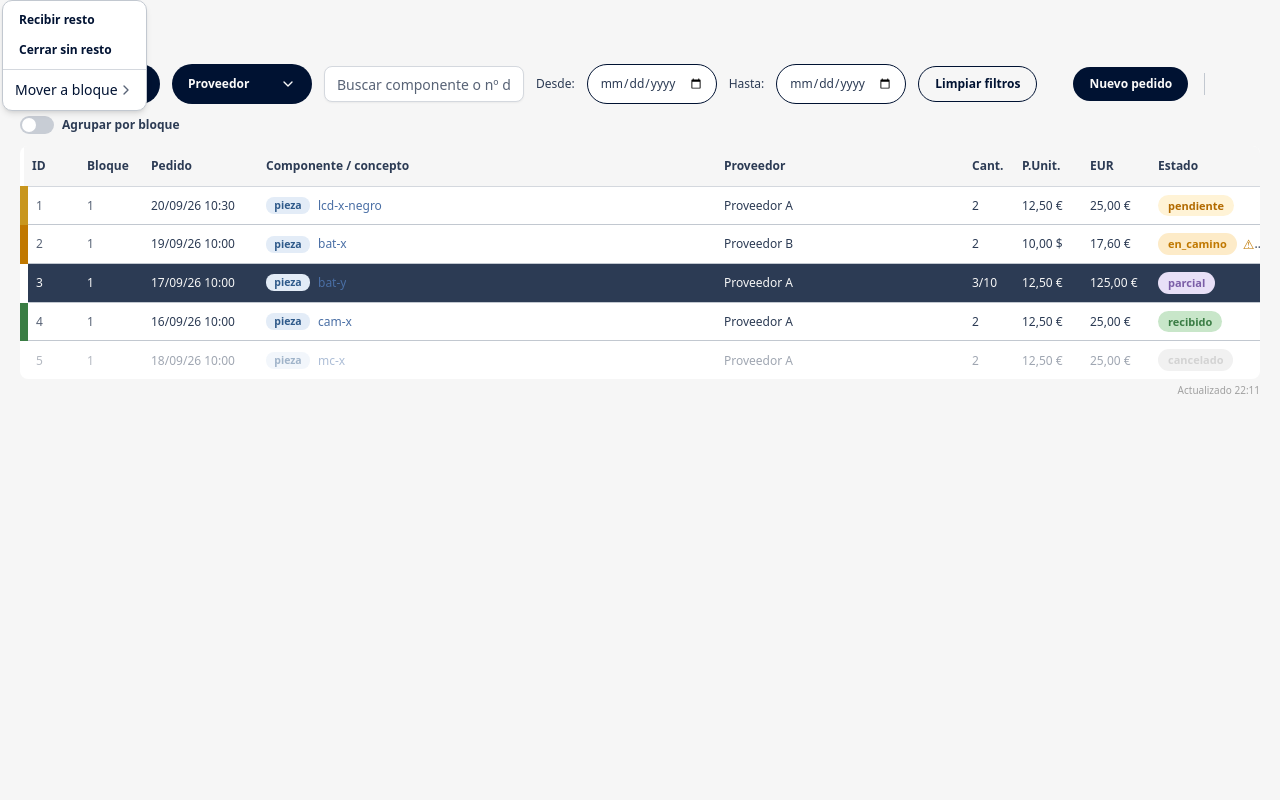
Test: PedidosPage: menú y acciones (SUPERTECNICO) › "Recibir resto": un 422 del servidor se pinta inline y el diálogo sigue abierto, sin aviso global
Expected: the button "bat-y" is shown, [318,274,346,291]
Step 1. Click the menu item "Recibir resto" → point(57, 20), box [19,11,95,28]
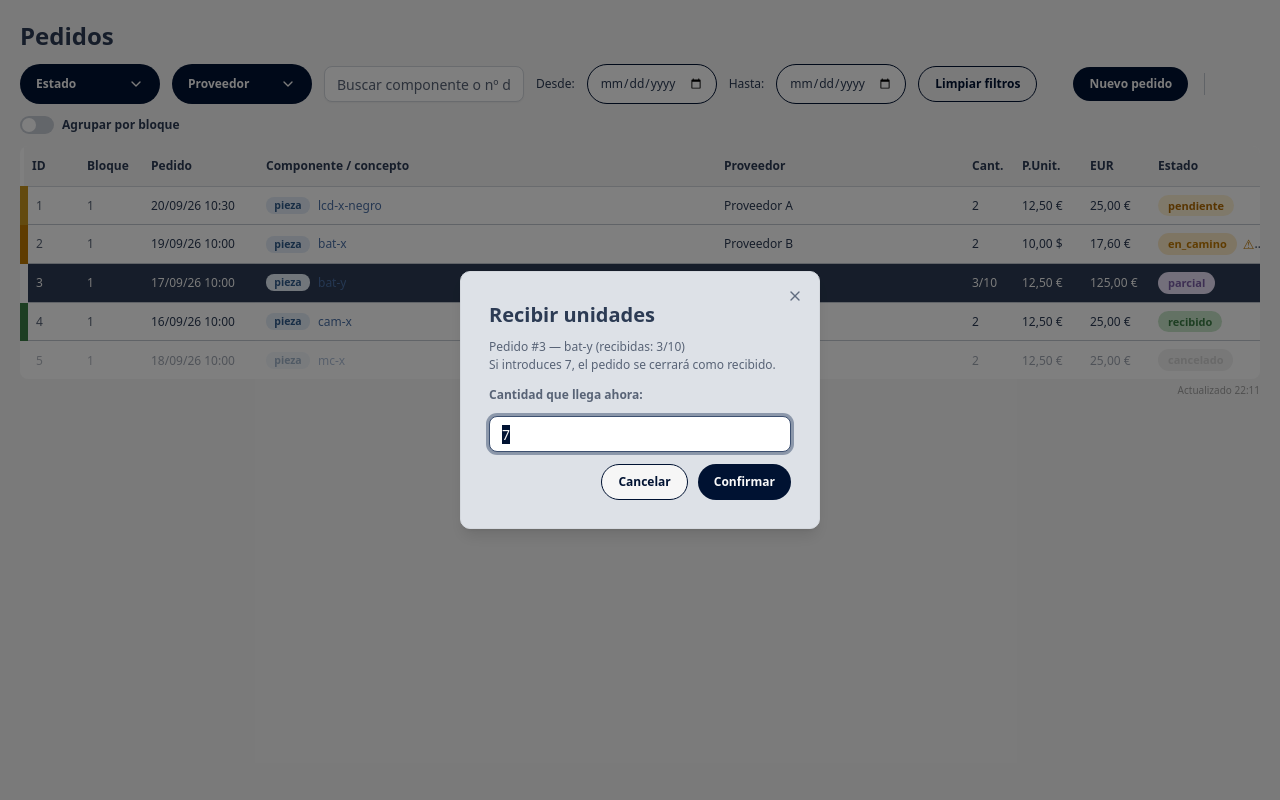
Now the field labelled "Cantidad que llega ahora:" holds "7", box [489,416,791,452]
Step 2. Click the button "Confirmar" → point(744, 482), box [698,464,791,500]
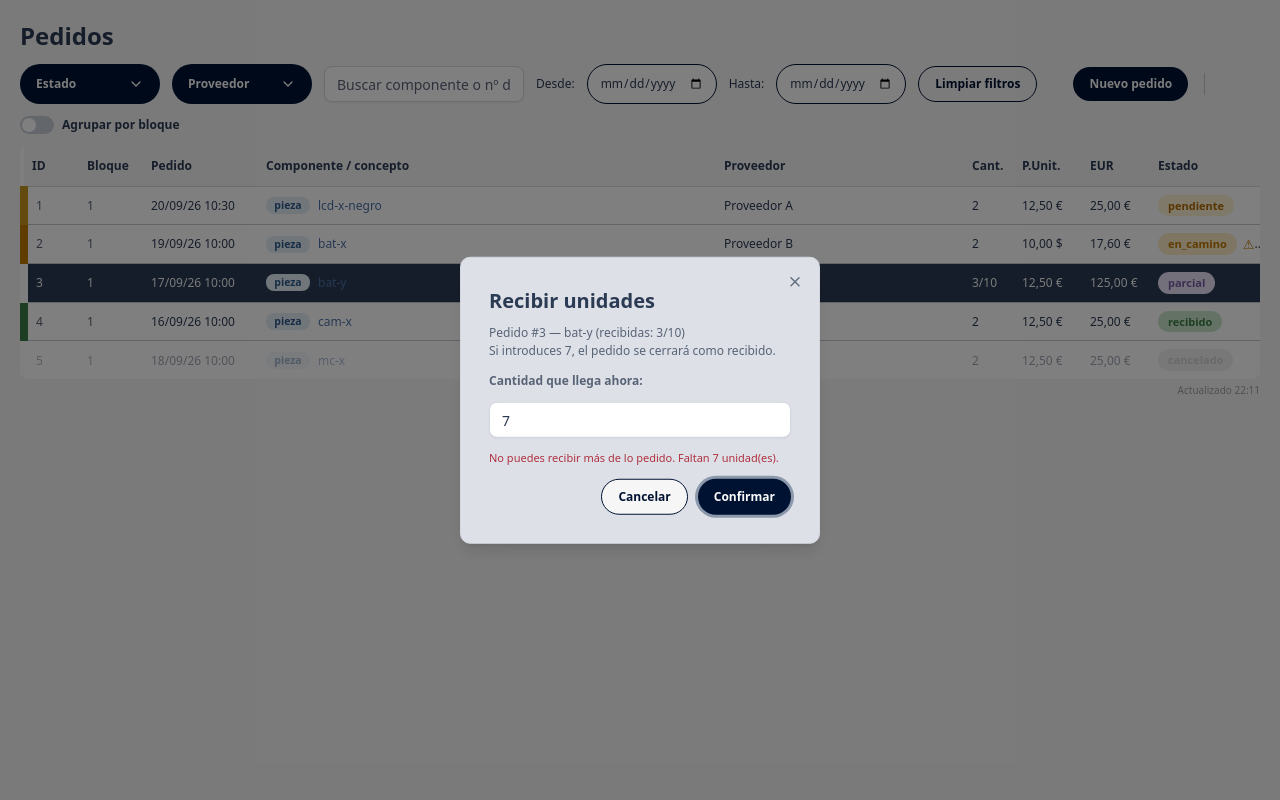
Now the dialog "Recibir unidades" is shown, box [460,257,820,543]
Now the message reads "No puedes recibir más de lo pedido. Faltan 7 unidad(es).", box [489,450,779,465]
Now the text "No puedes recibir más de lo pedido. Faltan 7 unidad(es)." is shown once, box [489,450,791,466]
